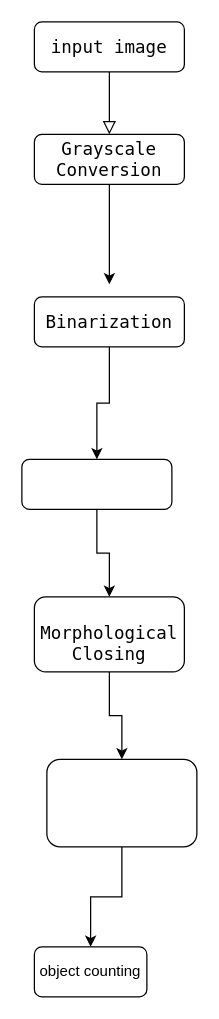
The diagram is 219 pixels wide and 1019 high, and some of its shapes have lost their labels. Each missing label, with the box of its shape:
Connected Components Labeling: (46, 758, 197, 847)
Morphological Opening: (21, 458, 172, 509)
